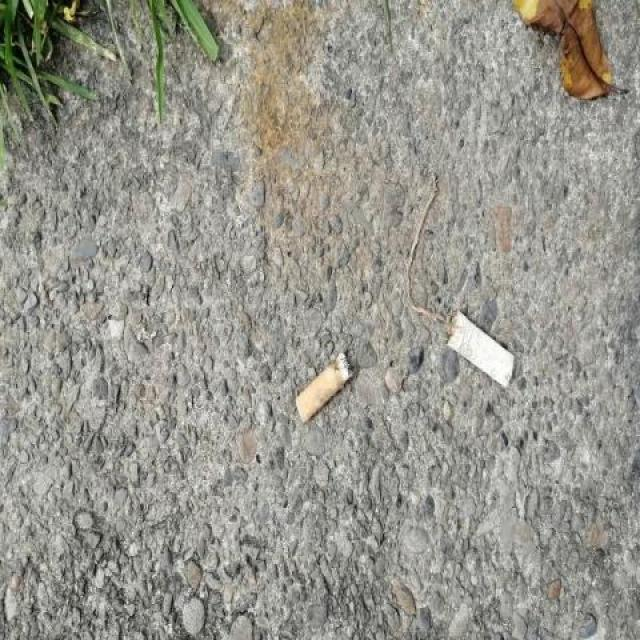non-organic waste: (442, 308, 519, 396), (293, 346, 358, 431)
